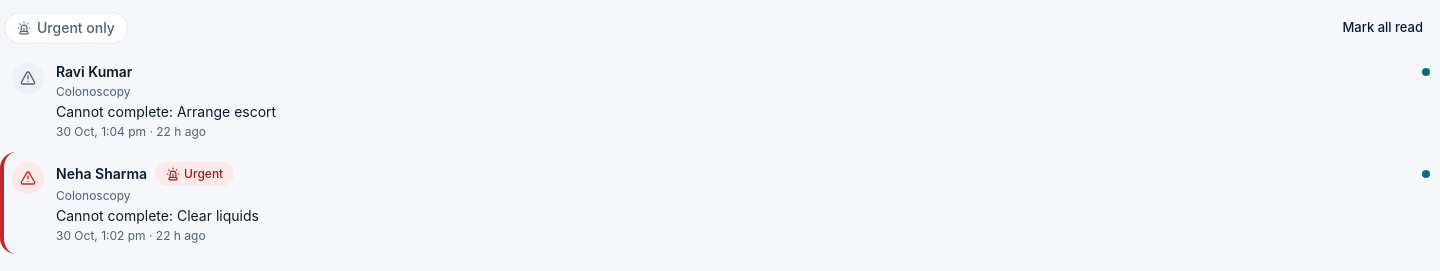
Scenario: staff notification panel › filters to urgent items with the Urgent only chip
This screenshot has width=1440, height=271.
Click the button "Urgent only". click: (66,28)
box: [4,12,128,44]
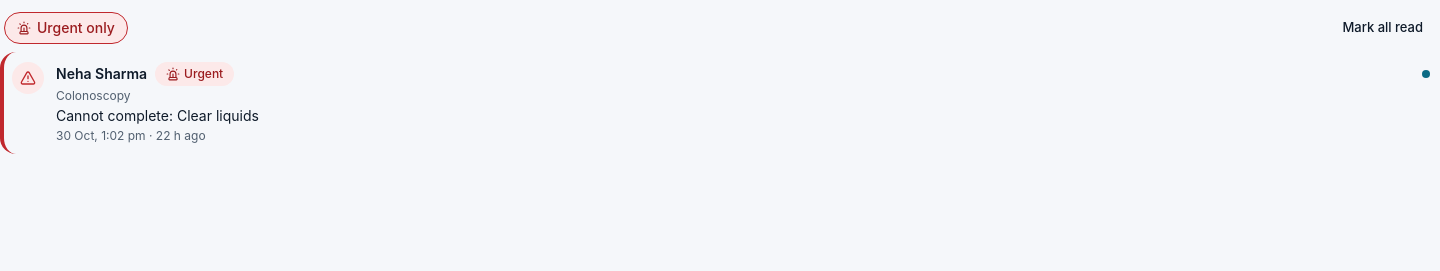
expect the link shows "Neha Sharma": met, box [0,52,1439,154]
expect the number of links is 1: met, box [0,52,1439,154]
